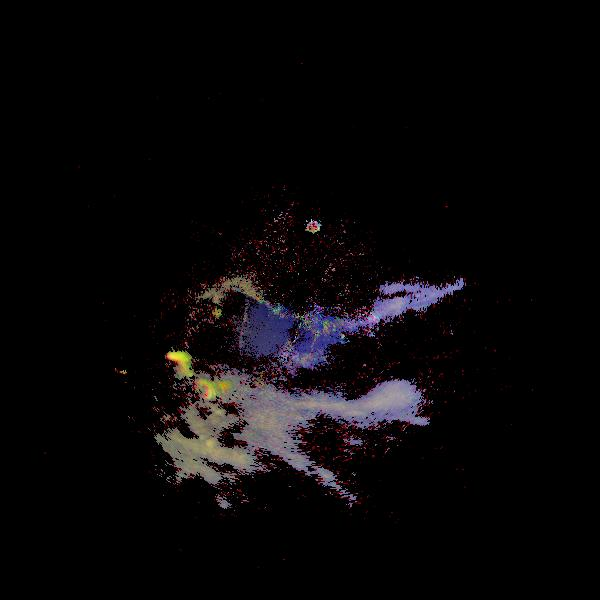roost: (89, 355, 137, 403), (153, 343, 198, 388), (186, 375, 222, 411)
